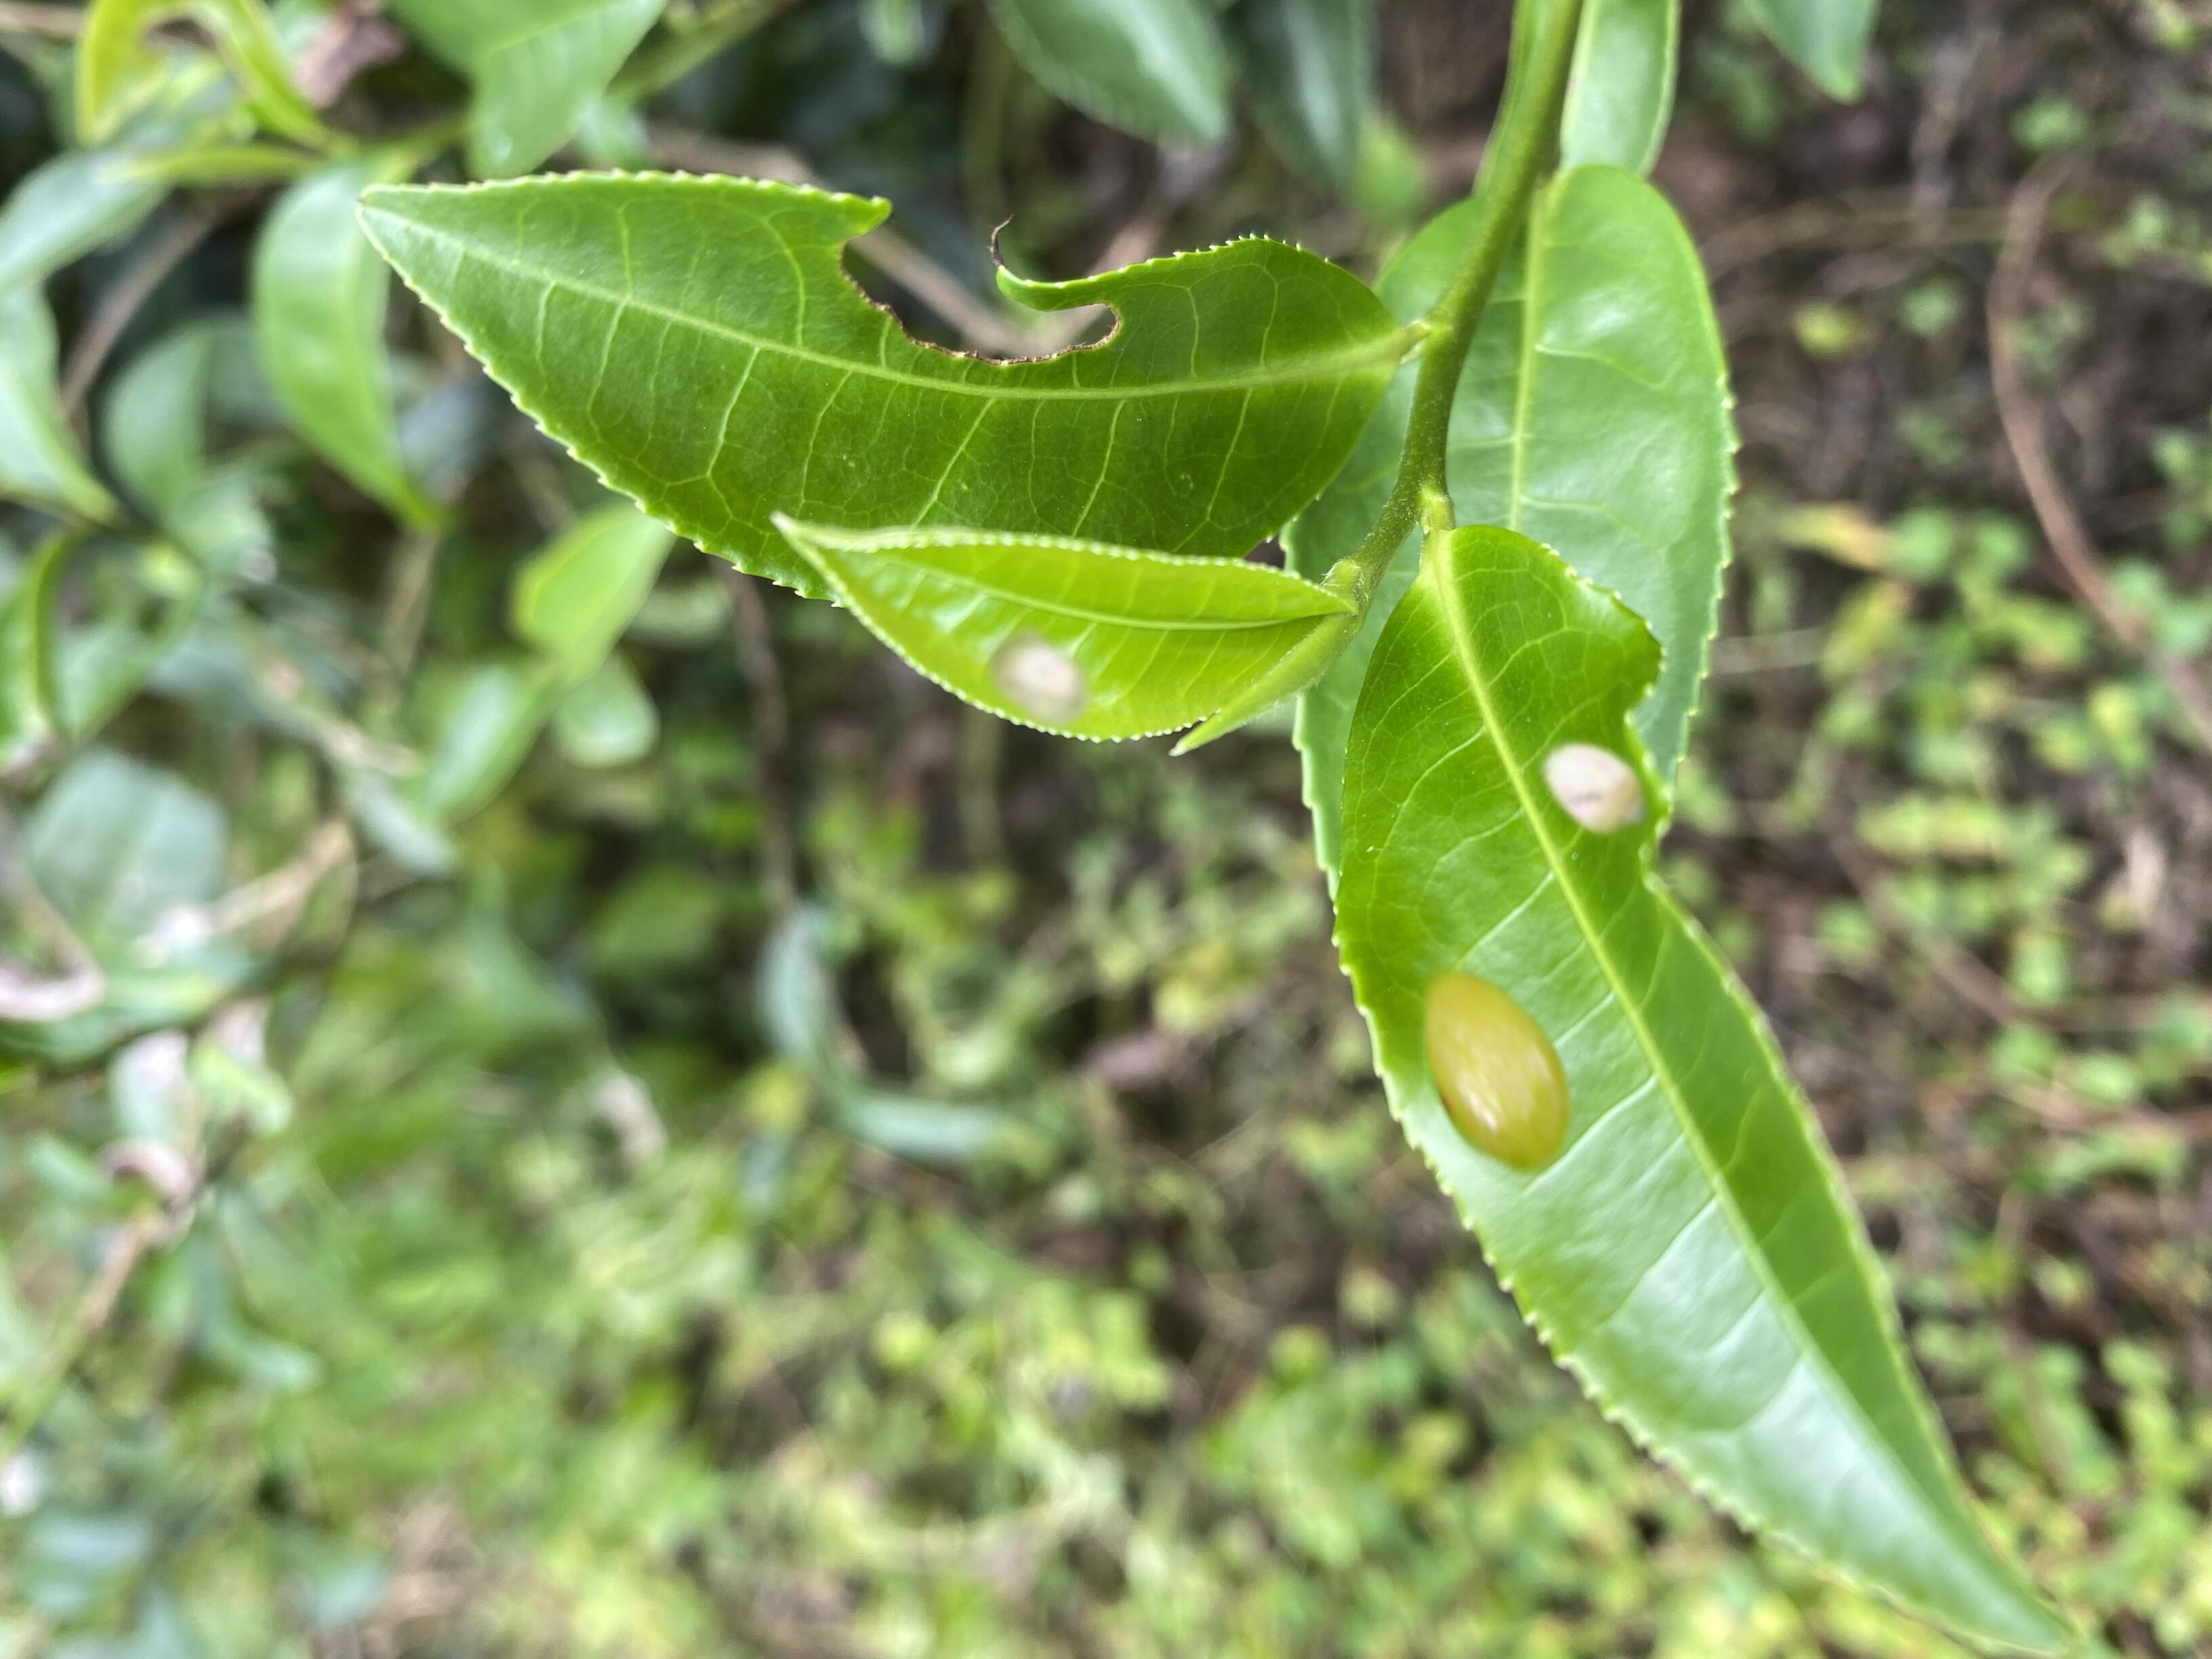chabing_high: (1336, 525, 2078, 1656)
chabing_low: (768, 505, 1357, 746)
chihuo_low: (354, 164, 1397, 613)
